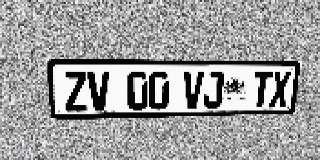0: (127, 71, 148, 110), (148, 71, 169, 110)
J: (202, 71, 224, 108)
T: (251, 71, 273, 107)
V: (87, 71, 110, 111), (182, 71, 204, 109)
X: (269, 71, 291, 107)
Z: (63, 71, 88, 112)
